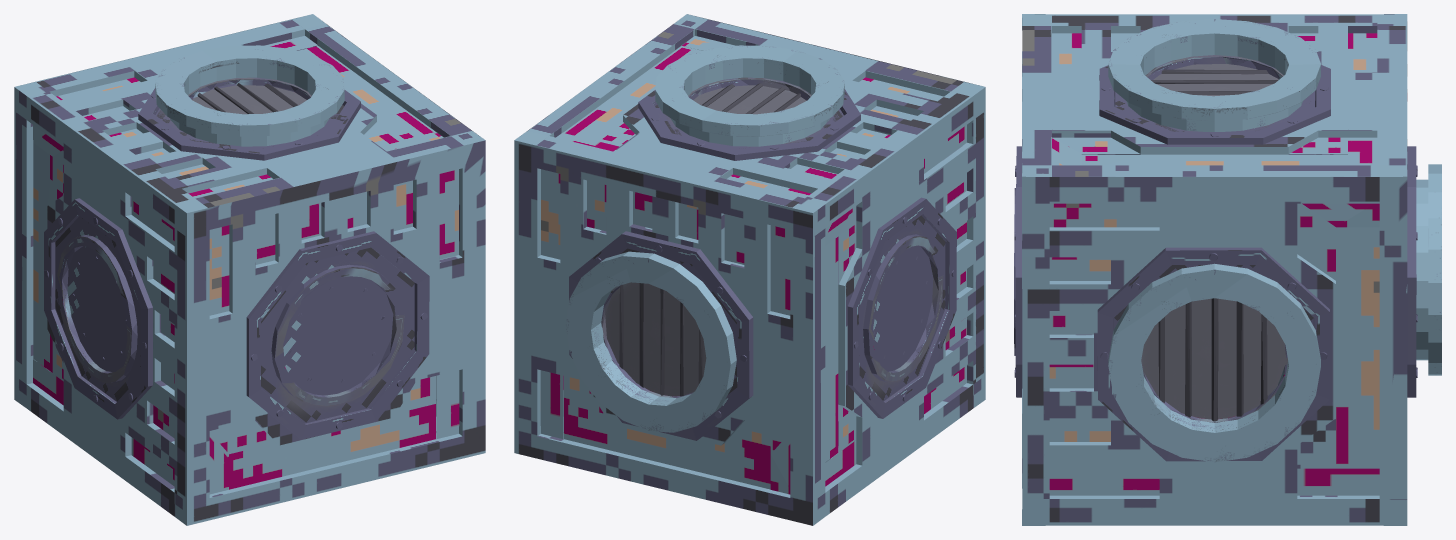
The model's file is Steam Source.fbx.
3 renders of one model, left to right at view 1: azimuth 30°, elevation 25°; view 2: azimuth 150°, elevation 25°; view 3: azimuth 270°, elevation 25°, orthographic. The views are drawn at different scales.
Visible parts, largest first — view 1: Main, polygons.002, connector.001; view 2: Main, polygons.002, connector.002, connector.001; view 3: Main, polygons.002, connector, connector.001, connector.002.
Boxes of the visible parts, box(x1,y1,x2,y2) form: Main: box(14, 14, 485, 525); polygons.002: box(44, 77, 429, 439); connector.001: box(155, 45, 344, 146); Main: box(514, 14, 985, 525); polygons.002: box(569, 77, 956, 445); connector.002: box(565, 251, 736, 432); connector.001: box(655, 45, 844, 146); Main: box(1022, 14, 1407, 525); polygons.002: box(1014, 55, 1417, 461); connector: box(1108, 263, 1320, 462); connector.001: box(1108, 19, 1320, 131); connector.002: box(1416, 164, 1441, 375).
Size of the model in its own units: 188 by 200 by 188.
